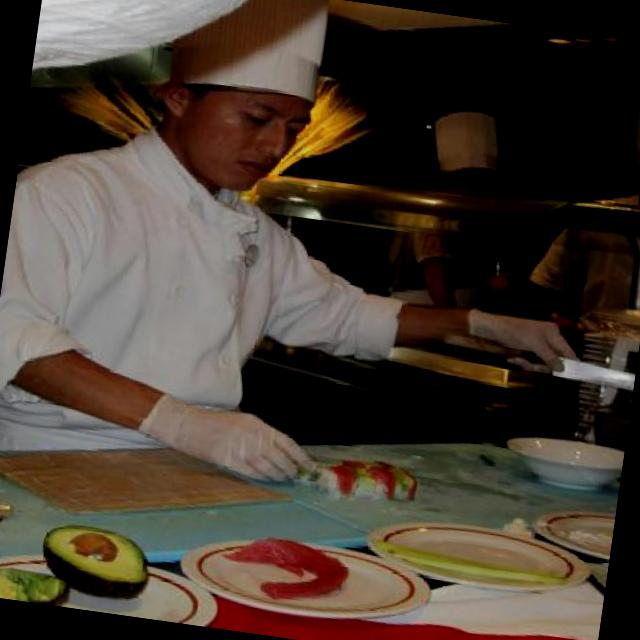Person: (0, 0, 633, 531), (521, 86, 640, 343), (384, 100, 518, 312)
